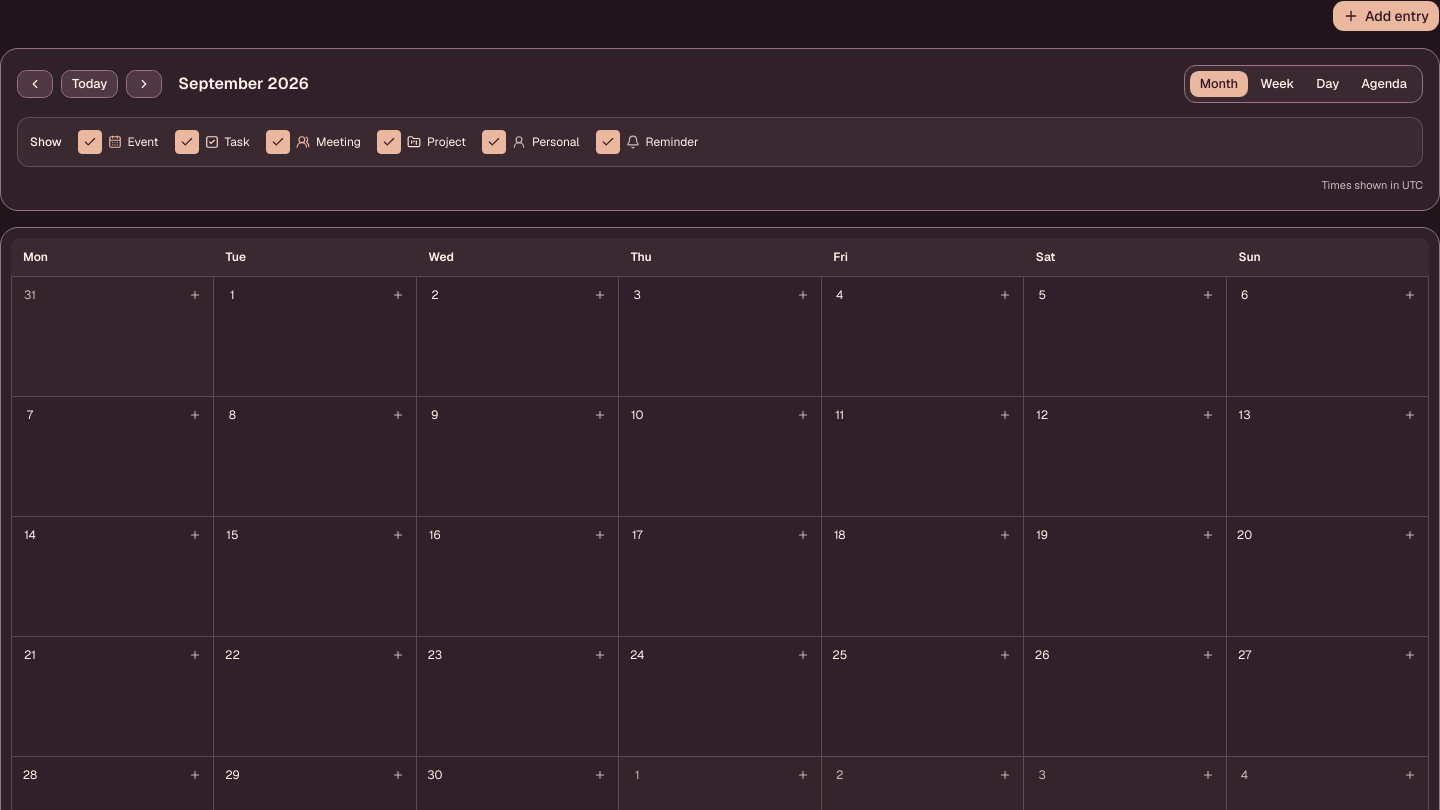
Test: CalendarManager › creates a new entry through the real API via the toolbar's Add entry action
Click the button "Add entry" at (1386, 16), box 1332,0 -> 1439,32
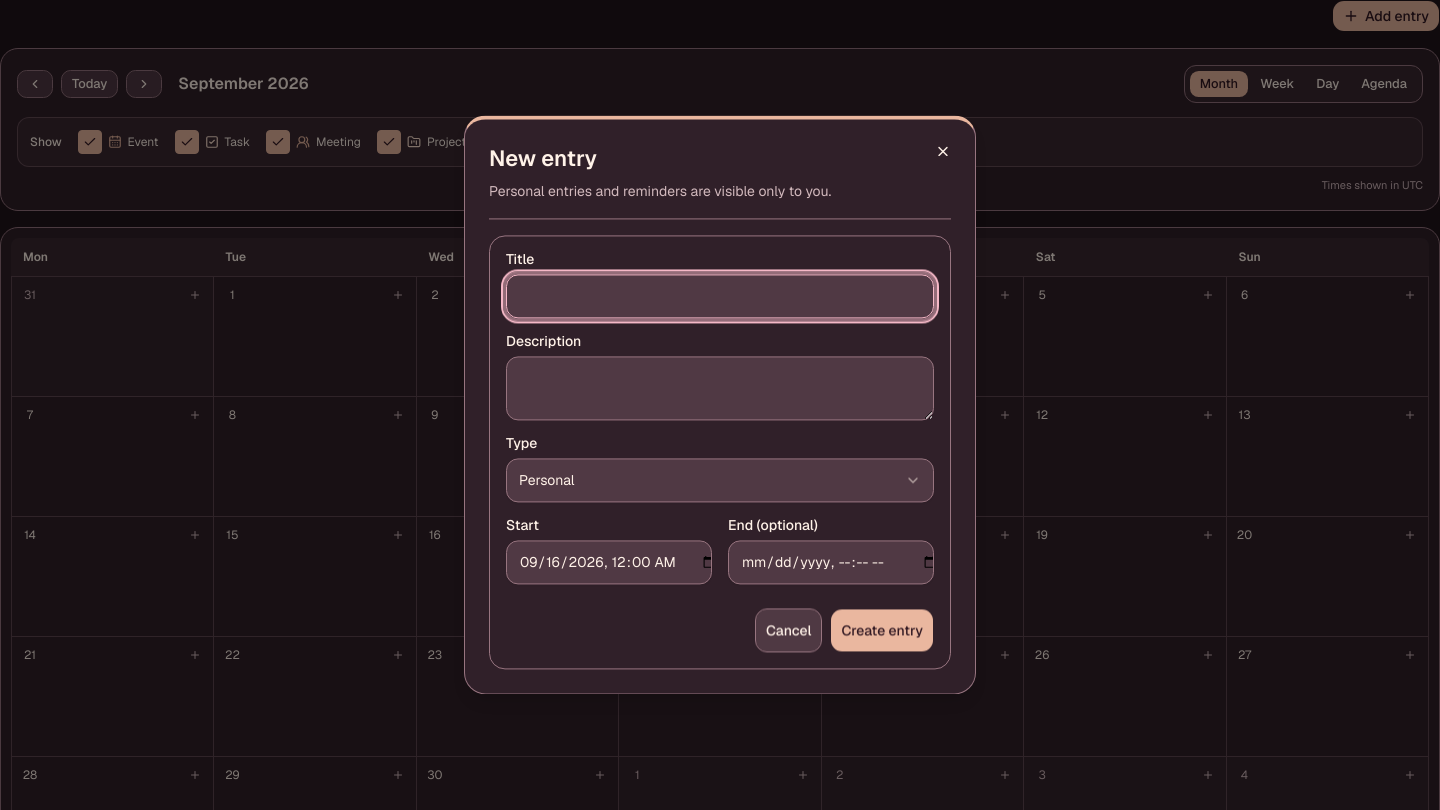
Type "Vet visit" into the field labelled "Title" at (720, 297), box 506,275 -> 934,319
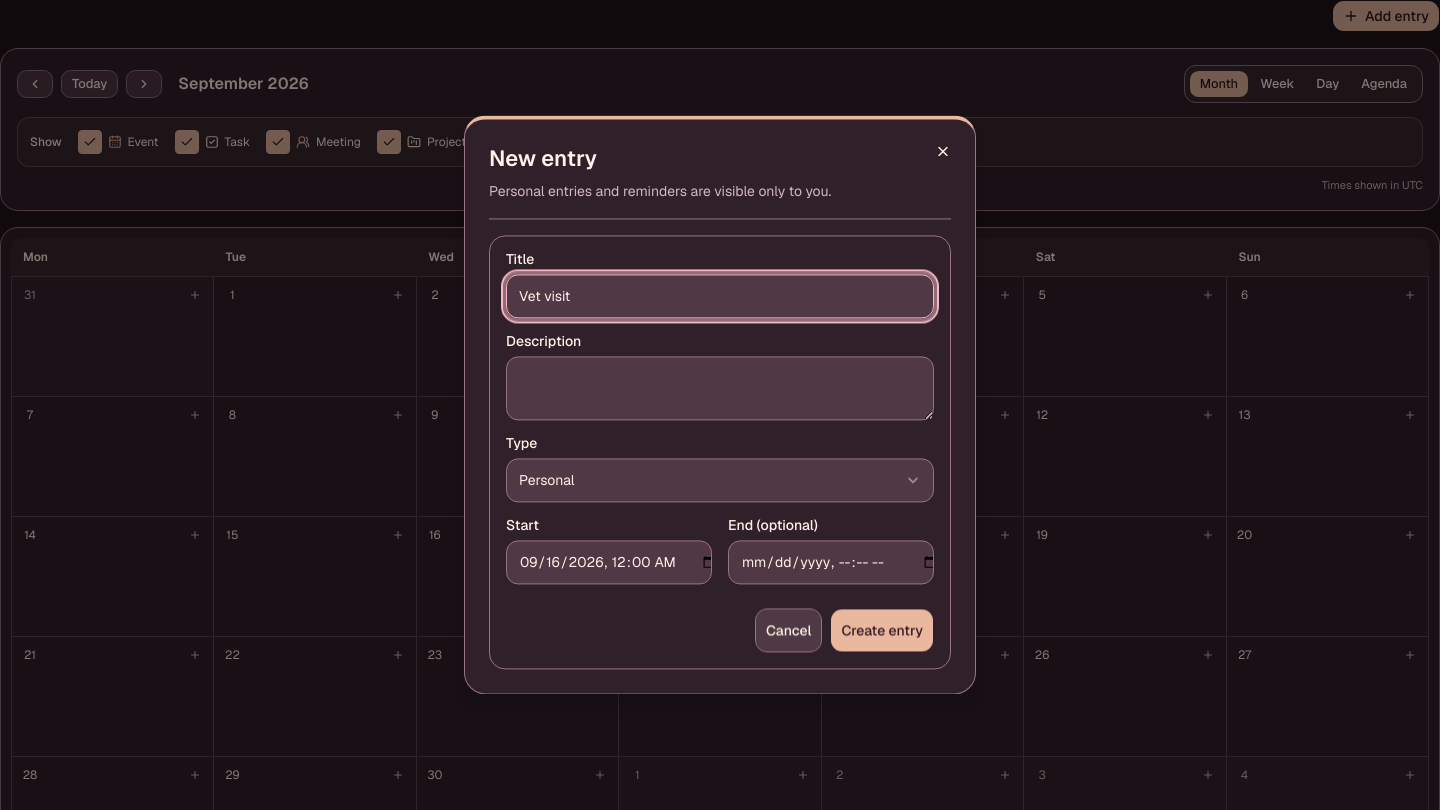
Click the button "Create entry" at (882, 631), box 830,609 -> 934,653
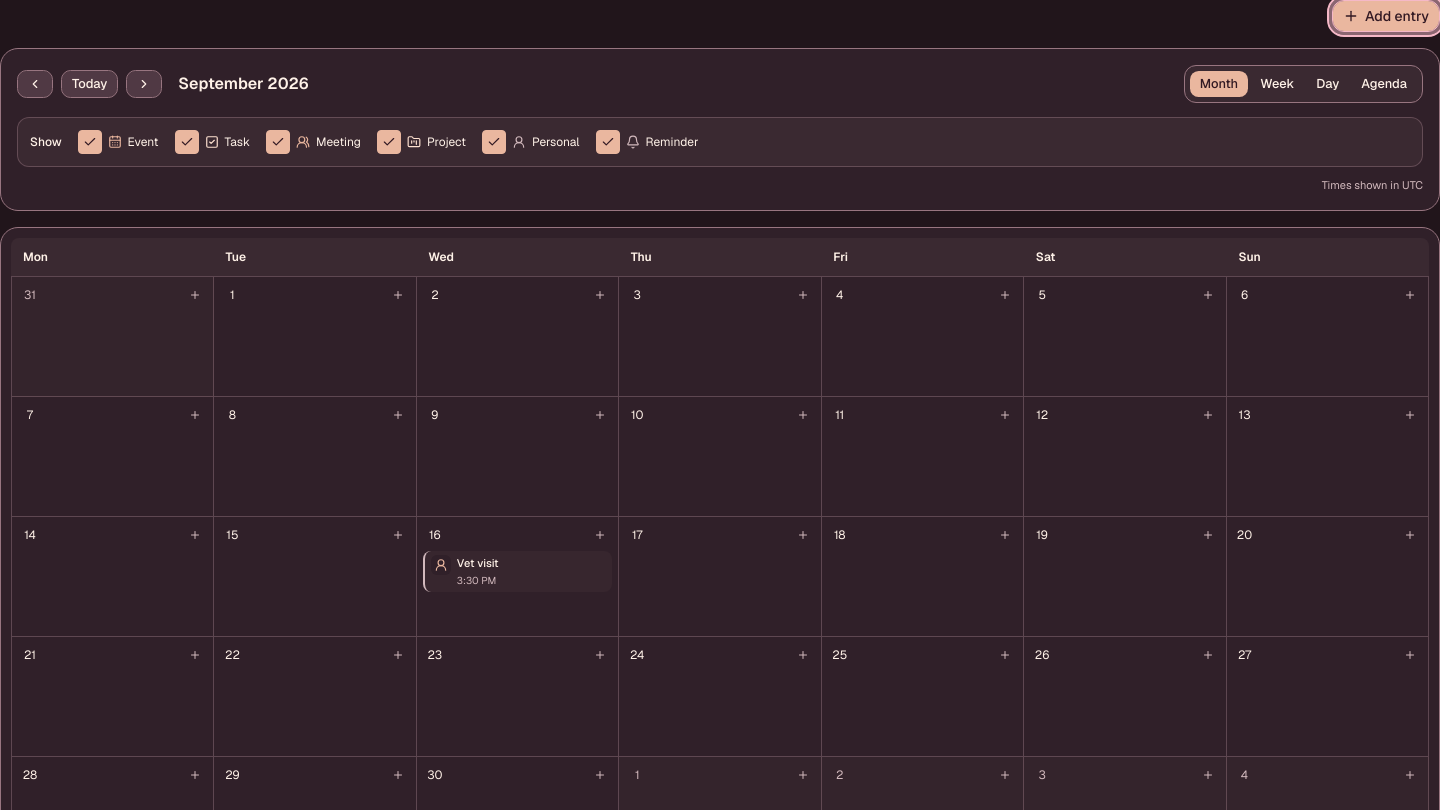
expect the text "Vet visit" is shown: met, box 457,556 -> 499,570
